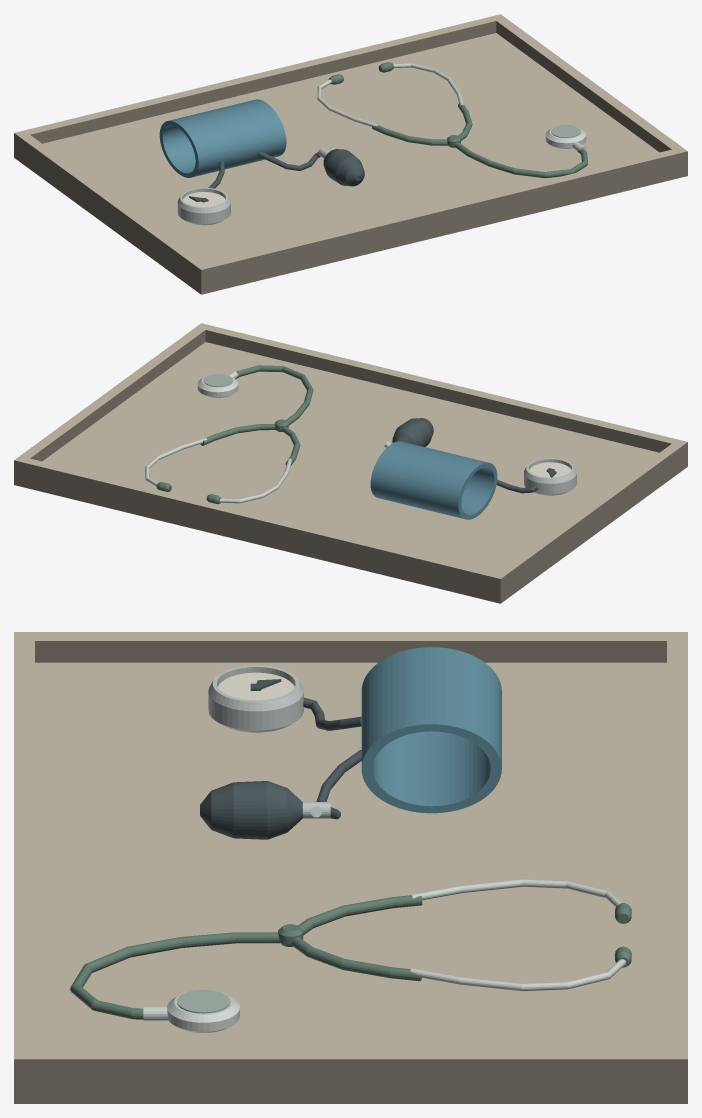
3 renders of one model, top to bottom at view 1: azimuth 30°, elevation 25°; view 2: azimuth 150°, elevation 25°; view 3: azimuth 270°, elevation 25°, orthographic. The views are drawn at different scales.
Visible parts, largest first — view 1: SCENE_ONLY__ContinuousThreeRimBoard, cuff__WholeThickOpenThroughOvalCuff, cuff__WholeClosedGaugeCaseAndRecess, cuff__WholeOvoidBulbExterior, steth__WholeLongContinuousChestTube, steth__WholeFlexibleYBranch_-1, steth__WholeSteppedCircularChestpiece, cuff__WholeBlankOpaqueGaugeFace; view 2: SCENE_ONLY__ContinuousThreeRimBoard, cuff__WholeThickOpenThroughOvalCuff, cuff__WholeClosedGaugeCaseAndRecess, cuff__WholeOvoidBulbExterior, steth__WholeLongContinuousChestTube, steth__WholeSteppedCircularChestpiece, steth__WholeFlexibleYBranch_1, cuff__WholeBlankOpaqueGaugeFace, steth__WholeBentBinauralTube_-1; view 3: SCENE_ONLY__ContinuousThreeRimBoard, cuff__WholeThickOpenThroughOvalCuff, cuff__WholeOvoidBulbExterior, cuff__WholeClosedGaugeCaseAndRecess, steth__WholeLongContinuousChestTube, steth__WholeBentBinauralTube_1, steth__WholeBentBinauralTube_-1, steth__WholeSteppedCircularChestpiece, steth__WholeFlexibleYBranch_1, steth__WholeFlexibleYBranch_-1, cuff__WholeBlankOpaqueGaugeFace, steth__WholeOpaqueDiaphragmAppearance (+2 smaller).
Boxes of the visible parts, x1,y1,x2,y2 form: SCENE_ONLY__ContinuousThreeRimBoard: (14,14,687,294); cuff__WholeThickOpenThroughOvalCuff: (159,99,286,177); cuff__WholeClosedGaugeCaseAndRecess: (177,187,230,225); cuff__WholeOvoidBulbExterior: (323,149,364,186); steth__WholeLongContinuousChestTube: (454,142,587,178); steth__WholeFlexibleYBranch_-1: (372,125,447,145); steth__WholeSteppedCircularChestpiece: (545,126,586,148); cuff__WholeBlankOpaqueGaugeFace: (183,192,225,207); SCENE_ONLY__ContinuousThreeRimBoard: (14,323,687,603); cuff__WholeThickOpenThroughOvalCuff: (370,441,497,519); cuff__WholeClosedGaugeCaseAndRecess: (524,458,576,495); cuff__WholeOvoidBulbExterior: (392,418,433,446); steth__WholeLongContinuousChestTube: (235,365,313,425); steth__WholeSteppedCircularChestpiece: (197,375,238,397); steth__WholeFlexibleYBranch_1: (200,424,275,445); cuff__WholeBlankOpaqueGaugeFace: (529,462,571,477); steth__WholeBentBinauralTube_-1: (219,458,291,503); SCENE_ONLY__ContinuousThreeRimBoard: (14,632,687,1103); cuff__WholeThickOpenThroughOvalCuff: (361,647,501,813); cuff__WholeOvoidBulbExterior: (200,781,302,839); cuff__WholeClosedGaugeCaseAndRecess: (208,665,303,732); steth__WholeLongContinuousChestTube: (70,932,280,1019); steth__WholeBentBinauralTube_1: (410,959,626,991); steth__WholeBentBinauralTube_-1: (410,879,621,906); steth__WholeSteppedCircularChestpiece: (167,991,239,1032); steth__WholeFlexibleYBranch_1: (291,937,421,981); steth__WholeFlexibleYBranch_-1: (298,895,422,935); cuff__WholeBlankOpaqueGaugeFace: (218,672,293,700); steth__WholeOpaqueDiaphragmAppearance: (177,989,230,1013).
Size of the model in its own units: 0.72 by 0.088 by 0.48.
